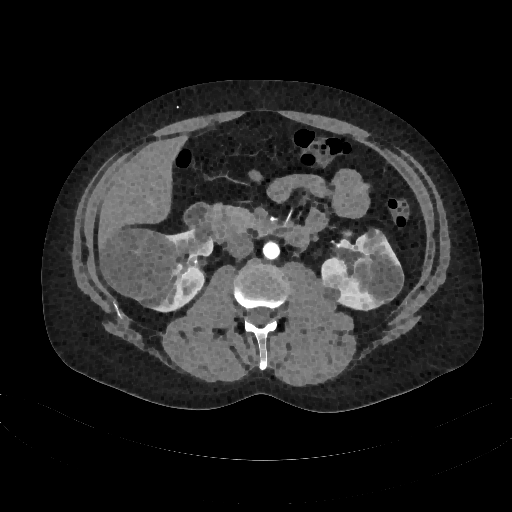Lesion: (98, 224, 181, 304)
